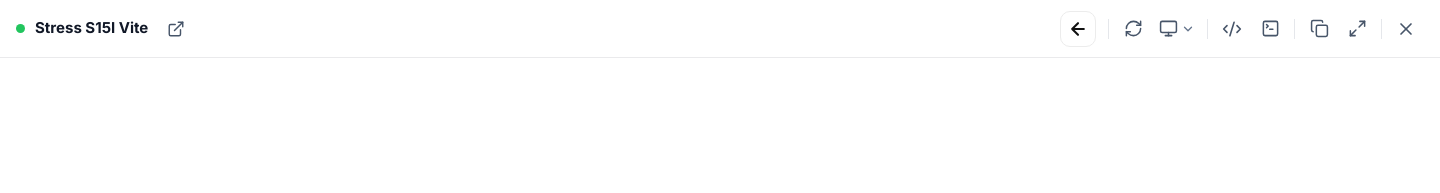
Test: LivePreviewHeader › toggles device selector dropdown and changes mode to tablet and mobile
Later steps or results of the test are not shown.
Click the button named "Screen size". click: (1177, 28)
box: [1153,10,1201,46]
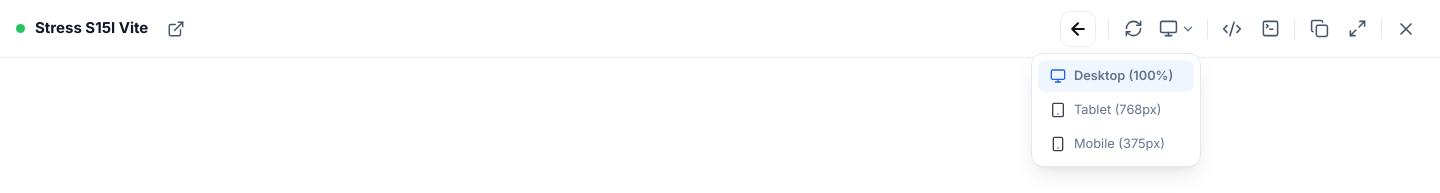
Expected: the number of menu items is 3, [1038,60,1194,92]; [1038,94,1194,126]; [1038,128,1194,160]
